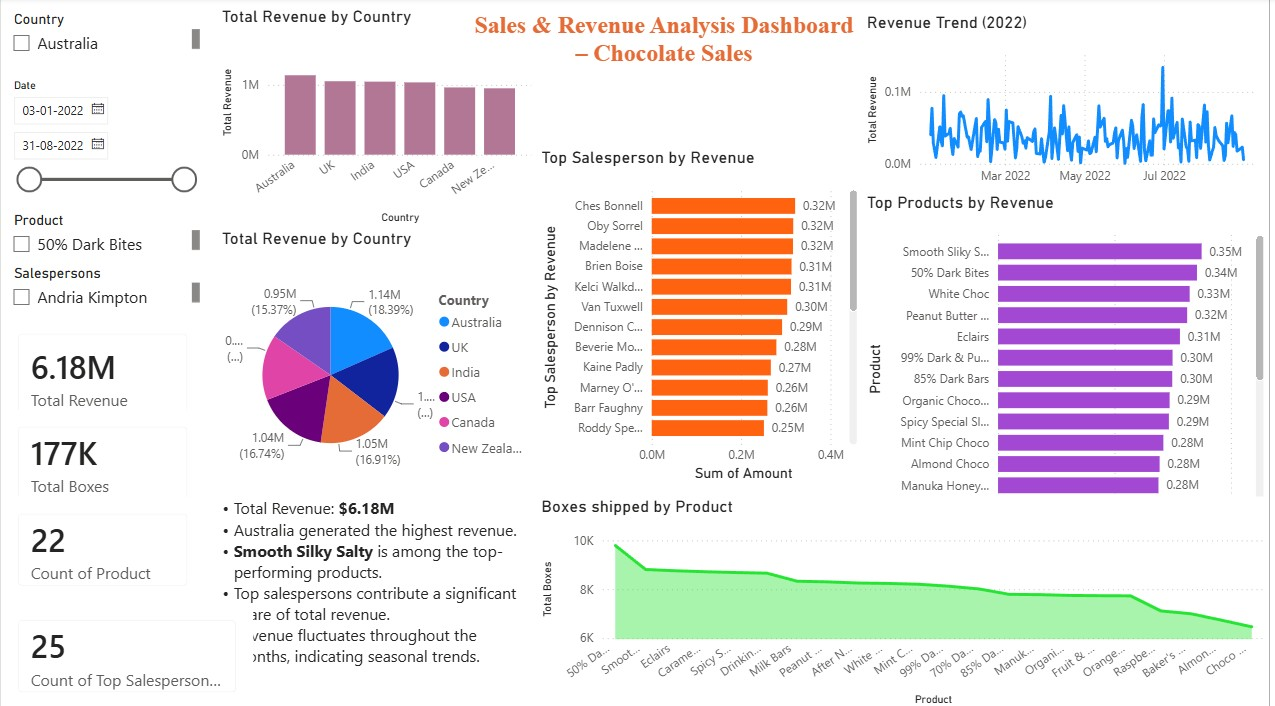

What the dashboard file says about the page in this screenshot:
{"tool":"powerbi","page":{"name":"Page 1","canvas":[1280,720],"ordinal":0},"visuals":[{"type":"lineChart","title":"Revenue Trend (2022)","fields":{"Category":["Chocolate Sales.Date.Variation.Date Hierarchy.Year","Chocolate Sales.Date.Variation.Date Hierarchy.Quarter","Chocolate Sales.Date.Variation.Date Hierarchy.Month","Chocolate Sales.Date.Variation.Date Hierarchy.Day"],"Y":["Chocolate Sales.Total Revenue"]},"box":[869.2,15.1,411.9,183.2],"z":0},{"type":"clusteredBarChart","title":"Top Products by Revenue","fields":{"Category":["Chocolate Sales.Product"],"Y":["Sum(Chocolate Sales.Amount)"]},"box":[869.2,196.8,410.3,355.8],"z":1000},{"type":"columnChart","fields":{"Category":["Chocolate Sales.Country"],"Y":["Chocolate Sales.Total Revenue"]},"box":[218,9.1,322.5,224.1],"z":2000},{"type":"barChart","title":"Top Salesperson by Revenue","fields":{"Category":["Chocolate Sales.Sales Person"],"Y":["Sum(Chocolate Sales.Amount)"]},"box":[540.6,151.4,328.6,342.2],"z":3000},{"type":"stackedAreaChart","title":"Boxes shipped by Product","fields":{"Category":["Chocolate Sales.Product"],"Y":["Chocolate Sales.Total Boxes"]},"box":[540.6,504.2,738.9,215],"z":4000},{"type":"pieChart","fields":{"Y":["Chocolate Sales.Total Revenue"],"Category":["Chocolate Sales.Country"]},"box":[218,233.2,322.5,266.5],"z":5000},{"type":"slicer","fields":{"Values":["Chocolate Sales.Date"]},"box":[0,77.2,205.9,134.8],"z":6000},{"type":"slicer","fields":{"Values":["Chocolate Sales.Product"]},"box":[0,212,205.9,60.6],"z":7000},{"type":"slicer","fields":{"Values":["Chocolate Sales.Sales Person"]},"box":[0,265,205.9,57.5],"z":8000},{"type":"textbox","box":[434.6,9.1,399.8,68.1],"z":9000},{"type":"textbox","box":[205.9,499.7,323,215],"z":10000},{"type":"slicer","fields":{"Values":["Chocolate Sales.Country"]},"box":[0,9.1,205.9,53],"z":11000},{"type":"cardVisual","fields":{"Data":["Chocolate Sales.Total Revenue"]},"box":[0,322.5,205.9,121.1],"z":12000},{"type":"cardVisual","fields":{"Data":["Chocolate Sales.Total Boxes"]},"box":[0,416.4,205.9,107.5],"z":13000},{"type":"cardVisual","fields":{"Data":["Count(Chocolate Sales.Product)"]},"box":[0,504.2,205.9,107.5],"z":14000},{"type":"cardVisual","fields":{"Data":["Count(Chocolate Sales.Sales Person)"]},"box":[0,607.2,205.9,107.5],"z":15000}]}

Visuals, with their boxes in screenshot pixels (x1, y1, x2, y2), scaled from the page's 1280x720 canvas onto the 1275x706 screenshot:
"Revenue Trend (2022)" lineChart: region(866, 15, 1274, 194)
"Top Products by Revenue" clusteredBarChart: region(866, 193, 1274, 542)
columnChart - Chocolate Sales.Country x Chocolate Sales.Total Revenue: region(217, 9, 538, 229)
"Top Salesperson by Revenue" barChart: region(538, 148, 866, 484)
"Boxes shipped by Product" stackedAreaChart: region(538, 494, 1274, 705)
pieChart - Chocolate Sales.Total Revenue x Chocolate Sales.Country: region(217, 229, 538, 490)
slicer - Chocolate Sales.Date: region(0, 76, 205, 208)
slicer - Chocolate Sales.Product: region(0, 208, 205, 267)
slicer - Chocolate Sales.Sales Person: region(0, 260, 205, 316)
textbox: region(433, 9, 831, 76)
textbox: region(205, 490, 527, 701)
slicer - Chocolate Sales.Country: region(0, 9, 205, 61)
cardVisual - Chocolate Sales.Total Revenue: region(0, 316, 205, 435)
cardVisual - Chocolate Sales.Total Boxes: region(0, 408, 205, 514)
cardVisual - Count(Chocolate Sales.Product): region(0, 494, 205, 600)
cardVisual - Count(Chocolate Sales.Sales Person): region(0, 595, 205, 701)
